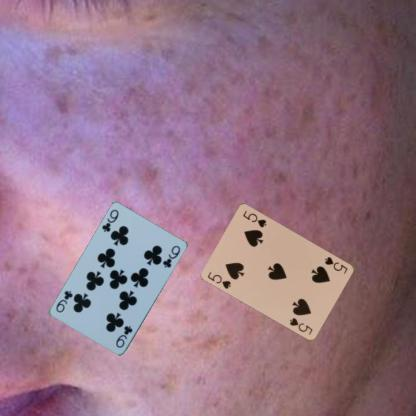5s: (322, 254, 349, 275), (205, 269, 232, 290)
9c: (113, 324, 134, 350), (100, 207, 121, 233)
